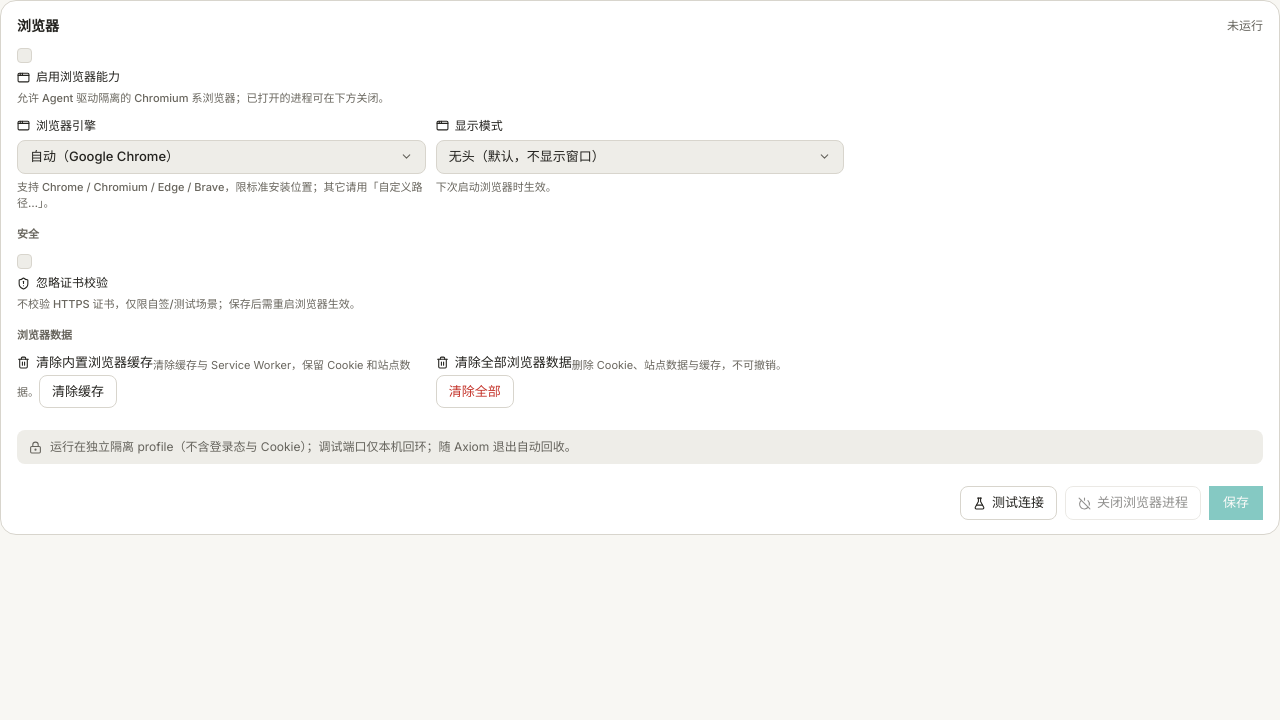
Test: BrowserSection › 测试连接用当前 draft 启动浏览器并显示版本
The width and height of the screenshot is (1280, 720).
Click the button "测试连接".
click(1008, 503)  # box [960,486,1057,520]
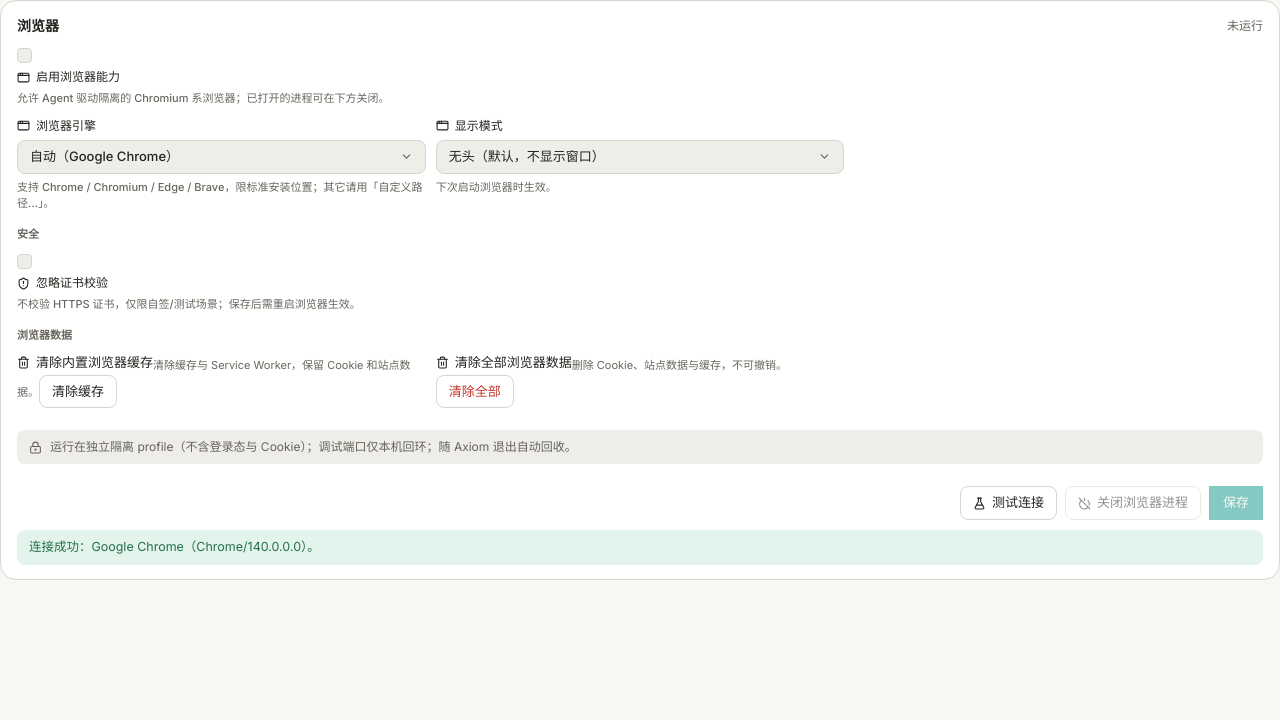
Now the text "连接成功：Google Chrome（Chrome/140.0.0.0）。" is shown, box [29,539,320,554]
